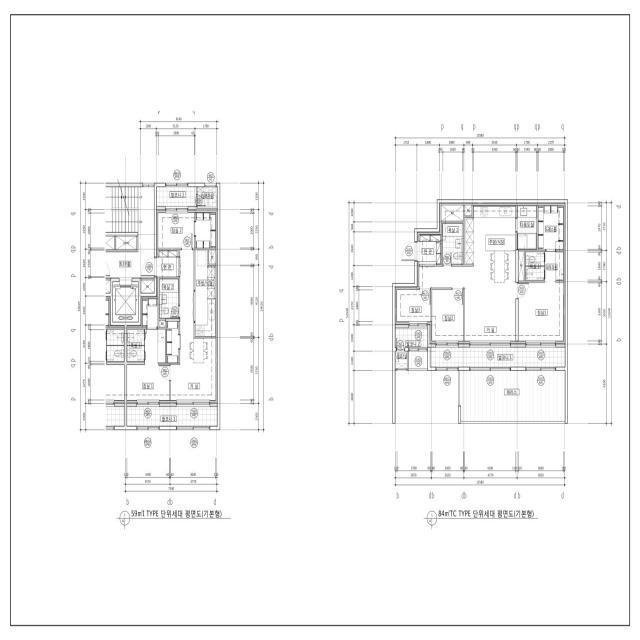space_balconi: (430, 347, 565, 367), (127, 407, 217, 426), (157, 187, 196, 206), (395, 328, 427, 348)
space_bedroom: (518, 283, 563, 344), (432, 290, 463, 344), (127, 365, 169, 403), (157, 210, 194, 248), (397, 290, 431, 324)
space_dressroom: (196, 210, 217, 248), (145, 329, 165, 365), (141, 297, 158, 327)
space_elevator: (113, 282, 138, 322)
space_elevator_hall: (106, 187, 154, 278)
space_front: (417, 235, 441, 265), (157, 250, 179, 277)
space_kitchen: (465, 206, 516, 283), (195, 250, 217, 336)
space_living_room: (419, 264, 516, 344), (171, 250, 217, 403)
space_other: (538, 206, 563, 249), (517, 206, 537, 249), (545, 252, 563, 281), (167, 321, 179, 363), (441, 205, 463, 221), (116, 236, 137, 250), (518, 251, 524, 281), (141, 280, 154, 293), (106, 236, 115, 250), (209, 250, 217, 264), (465, 205, 472, 215), (159, 320, 165, 327)
space_outdoor_room: (198, 187, 217, 208), (395, 351, 407, 369)
space_staircase: (106, 187, 140, 232)
space_toilet: (442, 223, 463, 265), (159, 278, 179, 318), (525, 251, 544, 281), (127, 346, 144, 362), (127, 329, 144, 345)
